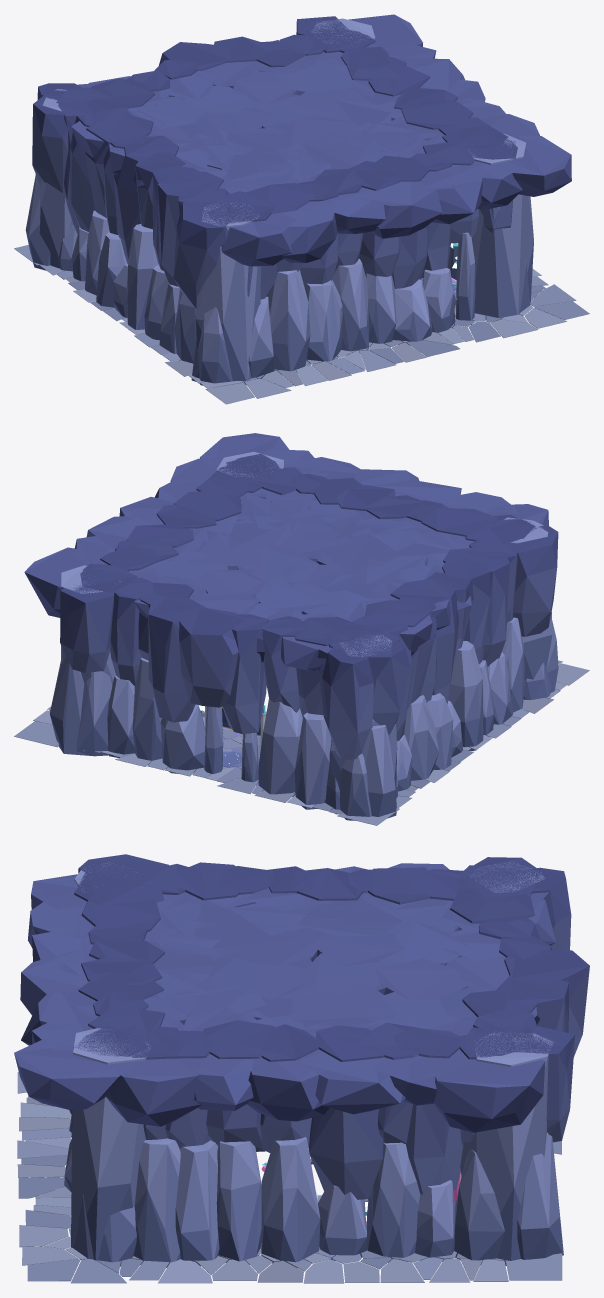
The model's file is crystal-hall.glb.
The picture shows the model from 3 angles, top to bottom: view 1: azimuth 30°, elevation 25°; view 2: azimuth 150°, elevation 25°; view 3: azimuth 270°, elevation 25°; orthographic projection. The views are drawn at different scales.
Parts seen in each view (by area): view 1: Batched static valley; view 2: Batched static valley; view 3: Batched static valley.
Part boxes in pixels (x1,y1,x2,y2): Batched static valley: (14, 14, 589, 404); Batched static valley: (14, 433, 589, 825); Batched static valley: (14, 854, 589, 1283).
Bounding box in the file's own units: 53.23 × 21.6 × 55.22.
Materials: 12 (2 with a texture image).
